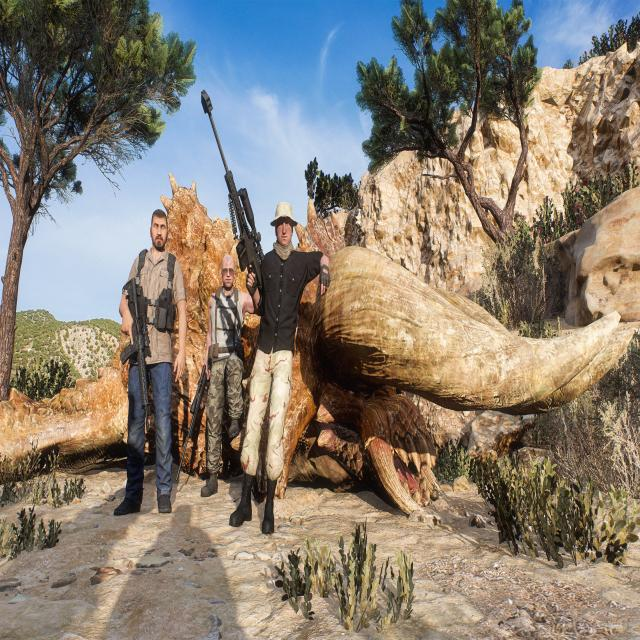ranger: (82, 201, 202, 524), (232, 173, 331, 536)
weapon: (196, 41, 261, 329), (177, 331, 216, 476)
